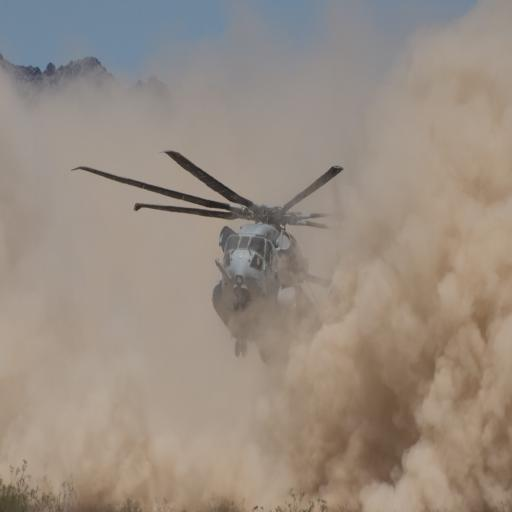helicopter: (80, 148, 340, 356)
